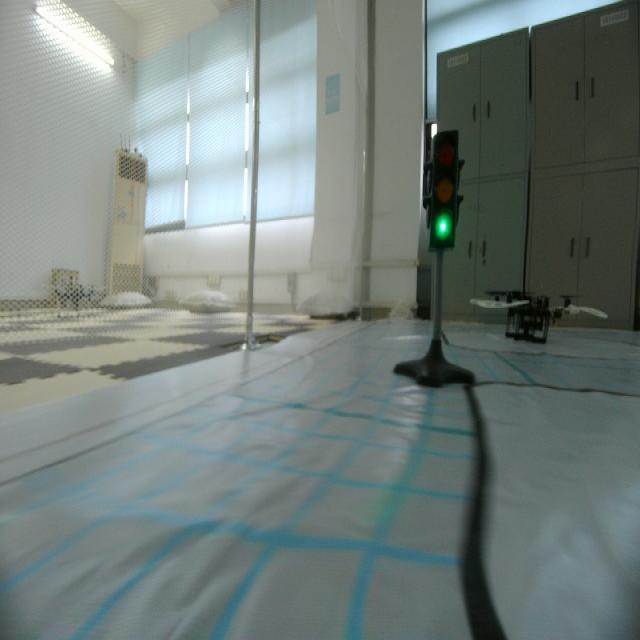green: (430, 132, 462, 255)
